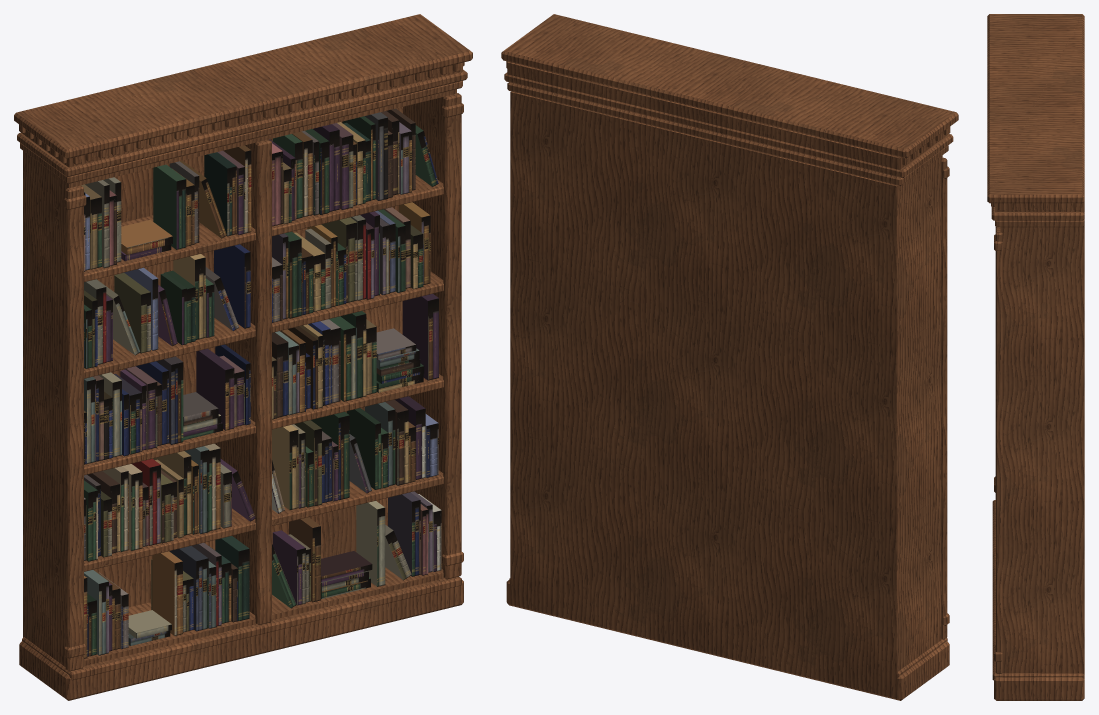
Rendered from lib_bookshelf.obj.
The picture shows the model from 3 angles, left to right: view 1: azimuth 30°, elevation 25°; view 2: azimuth 150°, elevation 25°; view 3: azimuth 270°, elevation 25°; orthographic projection. The views are drawn at different scales.
Parts seen in each view (by area): view 1: lib_bookshelf_wood_dark, lib_bookshelf_book_spines; view 2: lib_bookshelf_wood_dark; view 3: lib_bookshelf_wood_dark.
Part boxes in pixels (left/top/right/bottom): lib_bookshelf_wood_dark: left=14, top=14, right=472, bottom=700; lib_bookshelf_book_spines: left=81, top=108, right=441, bottom=658; lib_bookshelf_wood_dark: left=501, top=14, right=958, bottom=700; lib_bookshelf_wood_dark: left=987, top=14, right=1084, bottom=700.
Bounding box in the file's own units: 2 × 2.6 × 0.45.
2 materials, 2 textured.
